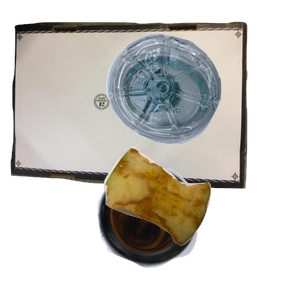cardboard: (10, 19, 250, 199)
glass: (95, 164, 286, 300)
plastic: (104, 31, 300, 168)
trash: (101, 145, 300, 300)
